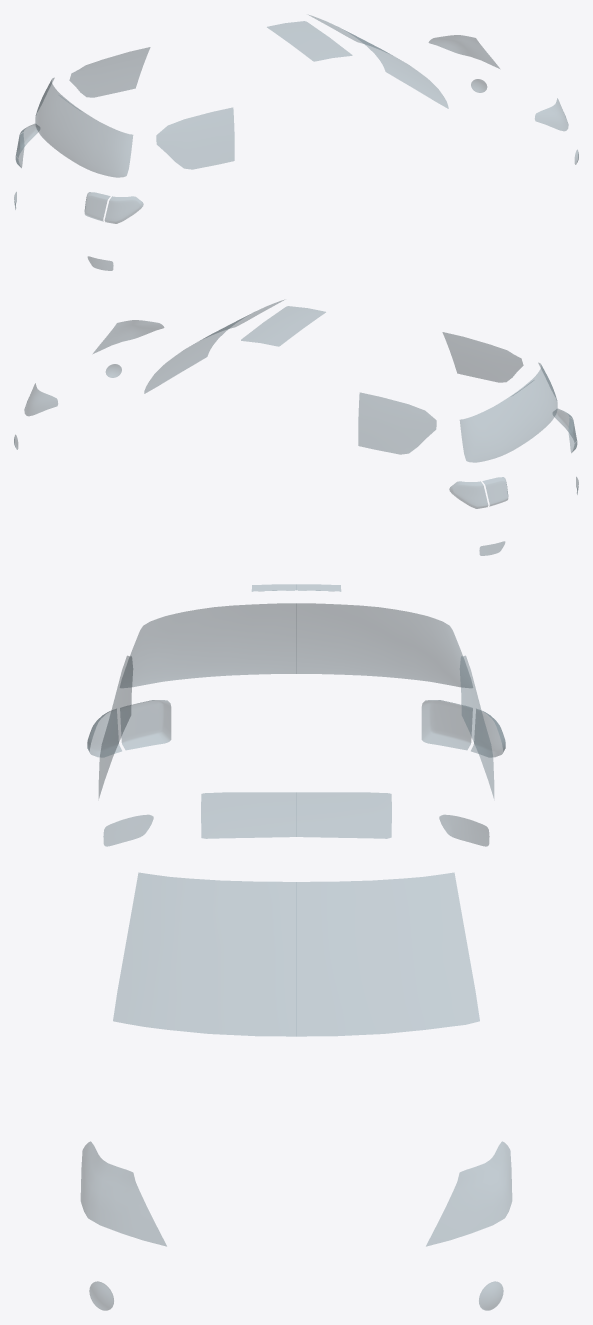
3 views of the same model, one above another, from view 1: azimuth 30°, elevation 25°; view 2: azimuth 150°, elevation 25°; view 3: azimuth 270°, elevation 25° (orthographic). The views are drawn at different scales.
Visible parts, largest first — view 1: SM_NissanPatrol_Glass_Int1; view 2: SM_NissanPatrol_Glass_Int1; view 3: SM_NissanPatrol_Glass_Int1.
Boxes of the visible parts, <box> form: SM_NissanPatrol_Glass_Int1: <box>14,15,578,270</box>; SM_NissanPatrol_Glass_Int1: <box>14,300,578,555</box>; SM_NissanPatrol_Glass_Int1: <box>81,584,511,1310</box>.
Size of the model in its own units: 5.26 by 1.49 by 2.04.
